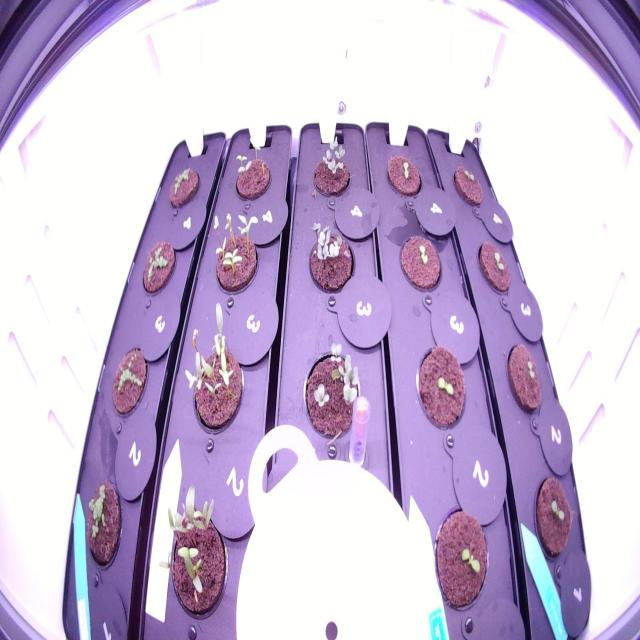germination: (150, 473, 234, 624), (178, 295, 251, 444), (296, 326, 369, 449), (427, 498, 493, 620), (205, 198, 272, 314), (413, 336, 472, 436), (76, 469, 128, 577), (530, 461, 578, 572), (305, 210, 358, 303), (224, 125, 277, 209), (500, 334, 548, 424), (306, 125, 356, 206), (106, 338, 154, 422), (395, 229, 446, 299), (135, 231, 180, 301), (472, 233, 516, 302), (379, 146, 427, 204), (447, 152, 489, 214), (162, 160, 205, 218)
